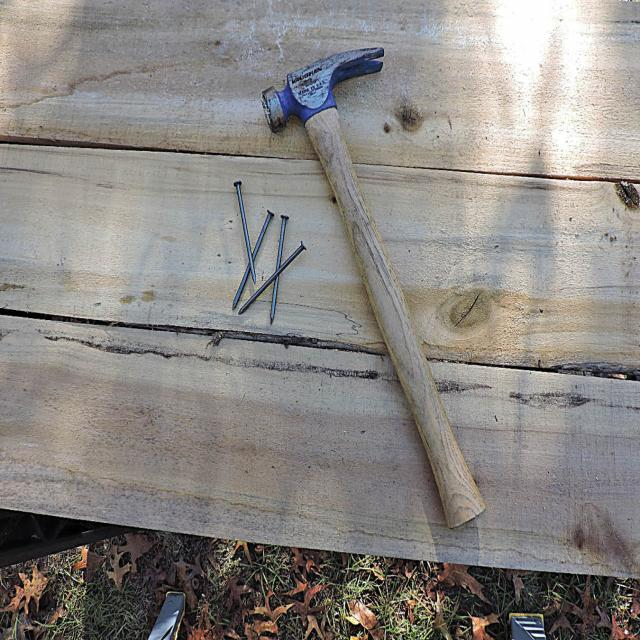hammer: (260, 39, 490, 534)
